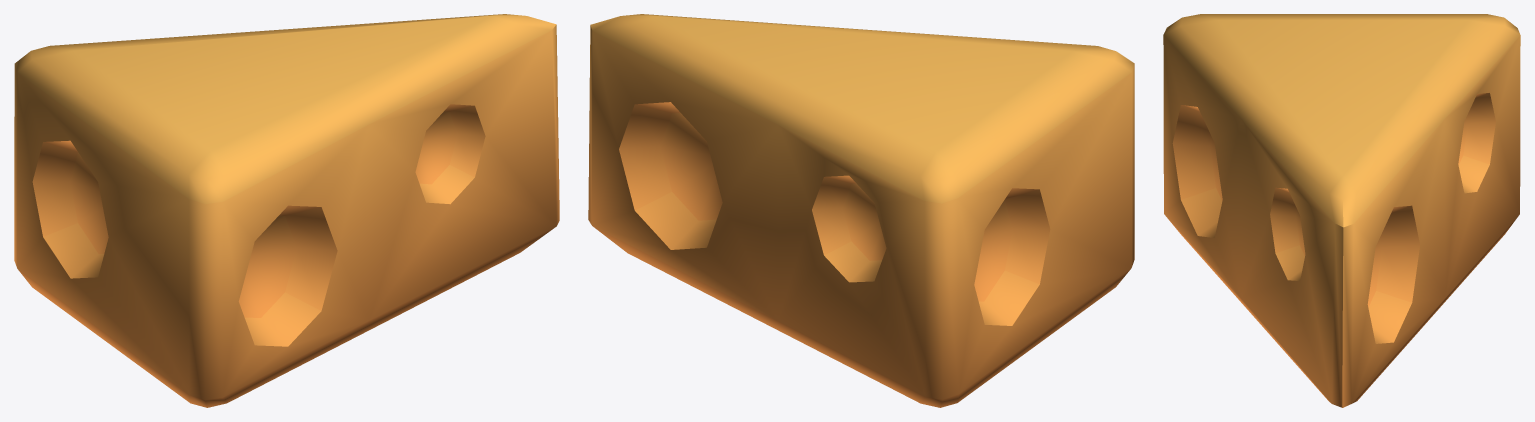
The model's file is re-food_ingredient_cheese.glb.
3 renders of one model, left to right at view 1: azimuth 30°, elevation 25°; view 2: azimuth 150°, elevation 25°; view 3: azimuth 270°, elevation 25°, orthographic. The views are drawn at different scales.
Parts seen in each view (by area): view 1: food_ingredient_cheese; view 2: food_ingredient_cheese; view 3: food_ingredient_cheese.
Part boxes in pixels (box(x1,y1,x2,y2)): food_ingredient_cheese: box(14, 14, 559, 407); food_ingredient_cheese: box(588, 14, 1134, 407); food_ingredient_cheese: box(1163, 14, 1520, 407).
Size of the model in its own units: 0.9766 by 0.5 by 0.722.
1 material, 1 textured.
